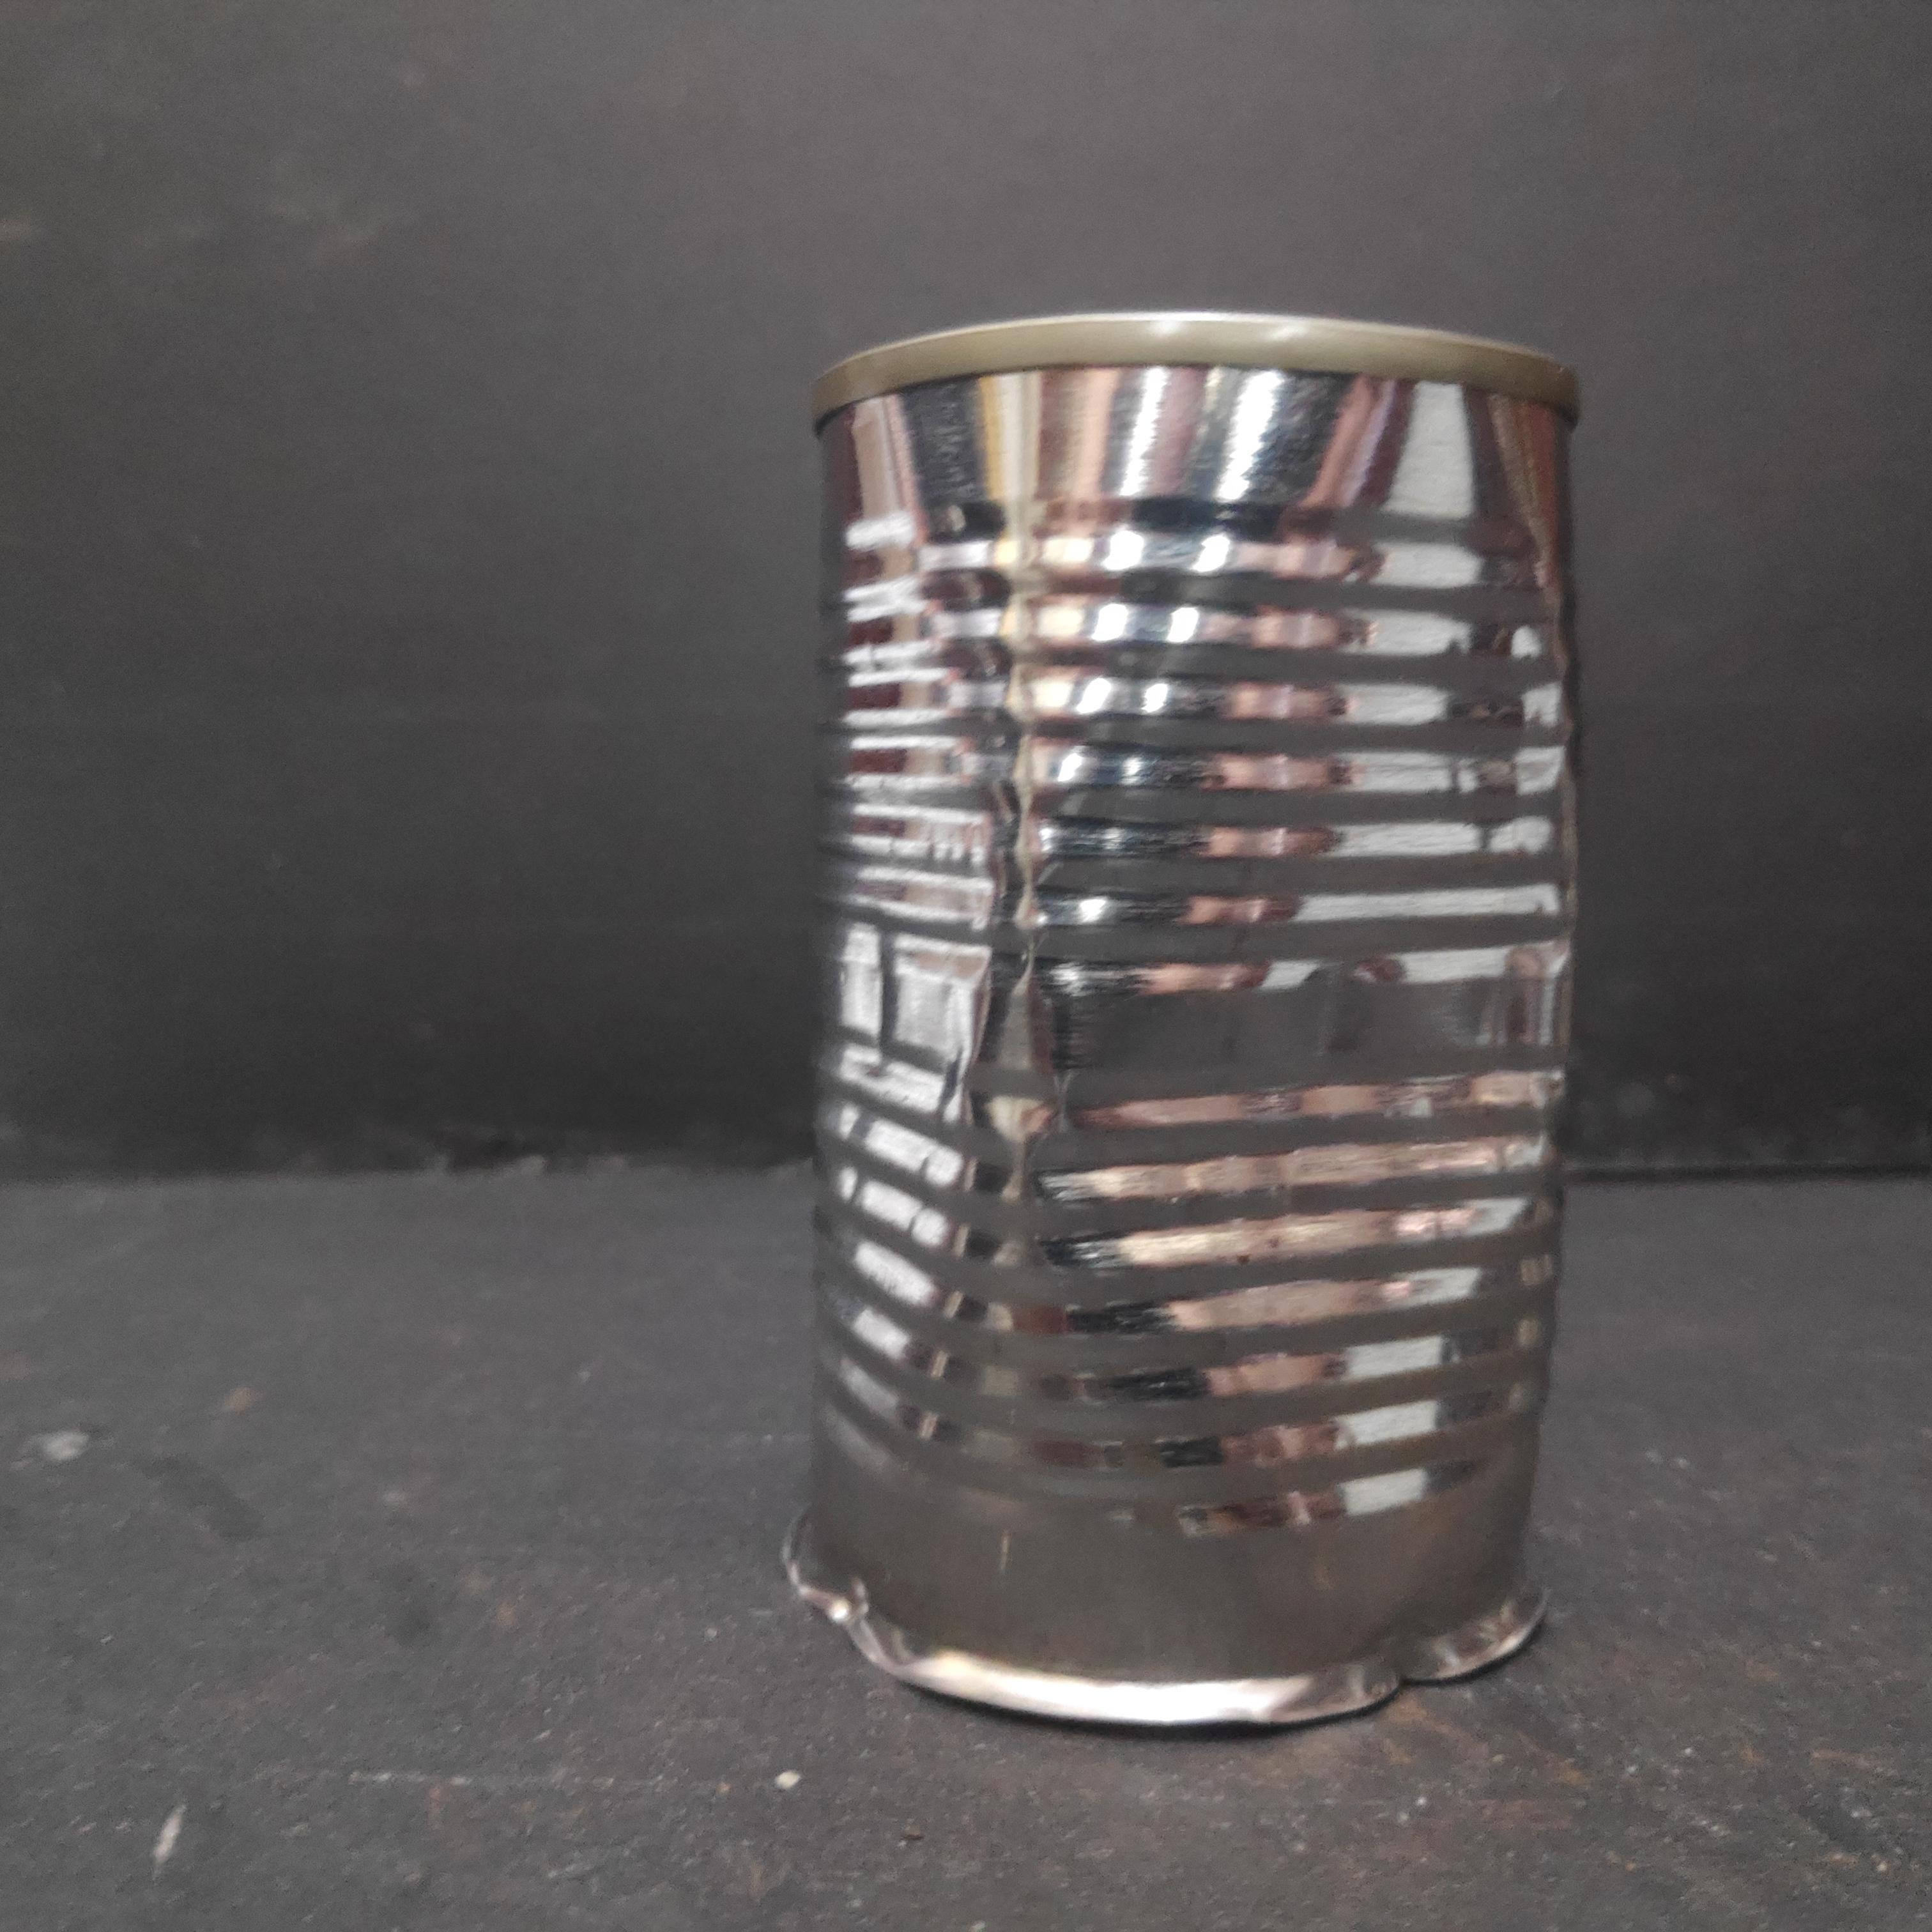Minor Defect: (800, 301, 1596, 1757)
